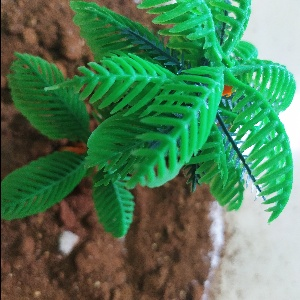plant: (1, 1, 298, 242)
